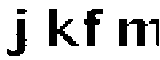f: (82, 6, 107, 47)
j: (4, 6, 30, 58)
k: (41, 5, 79, 49)
m: (113, 14, 160, 50)
